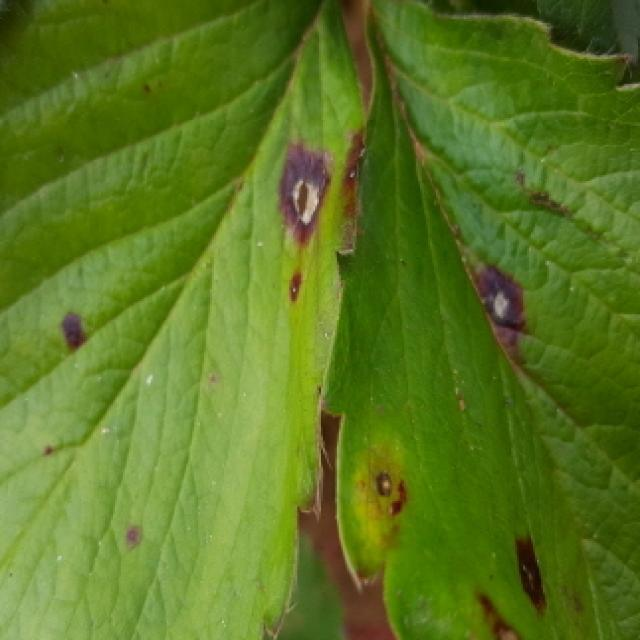Leaf Spot: (0, 0, 368, 640), (321, 0, 640, 640)
